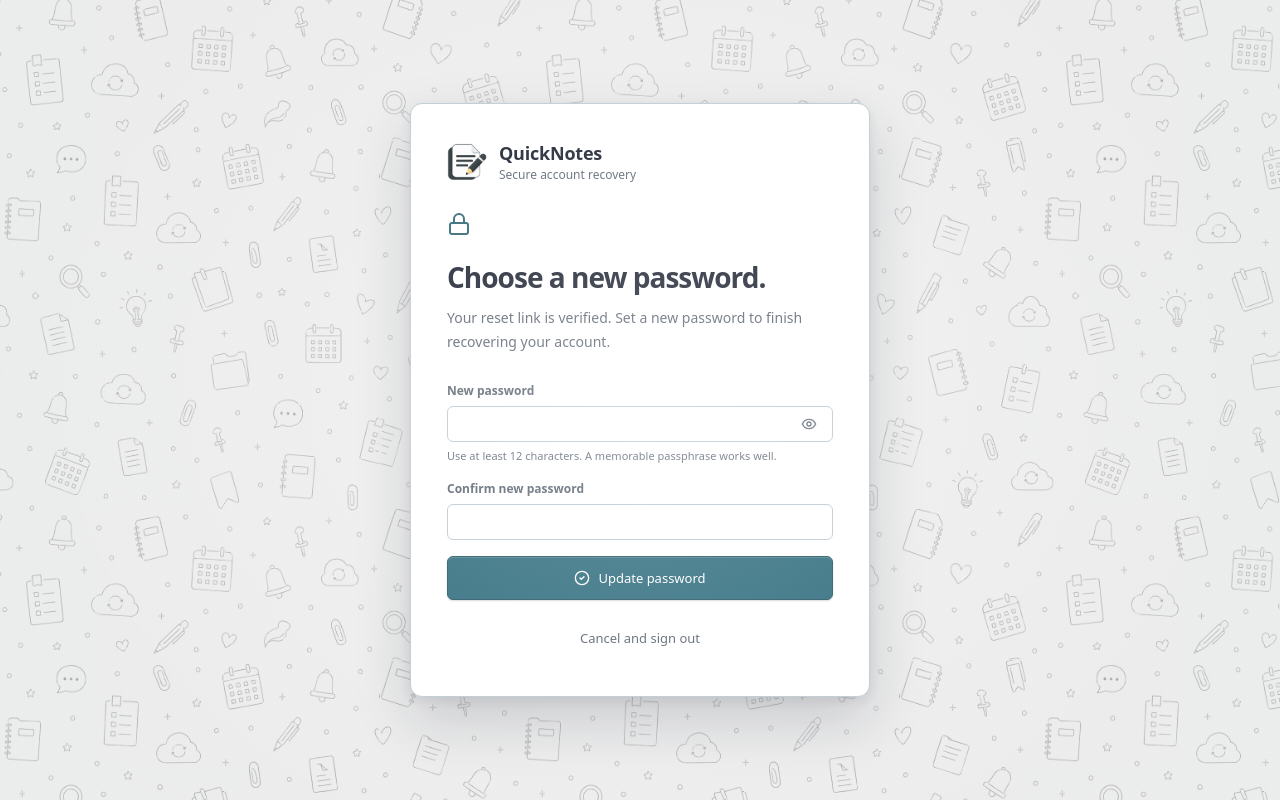
Test case: password recovery › associates a mismatch with the confirmation field and moves focus there
Step 1. Type "a sufficiently long passphrase" into the password field labelled "New password" → point(640, 424), box [447,406,833,442]
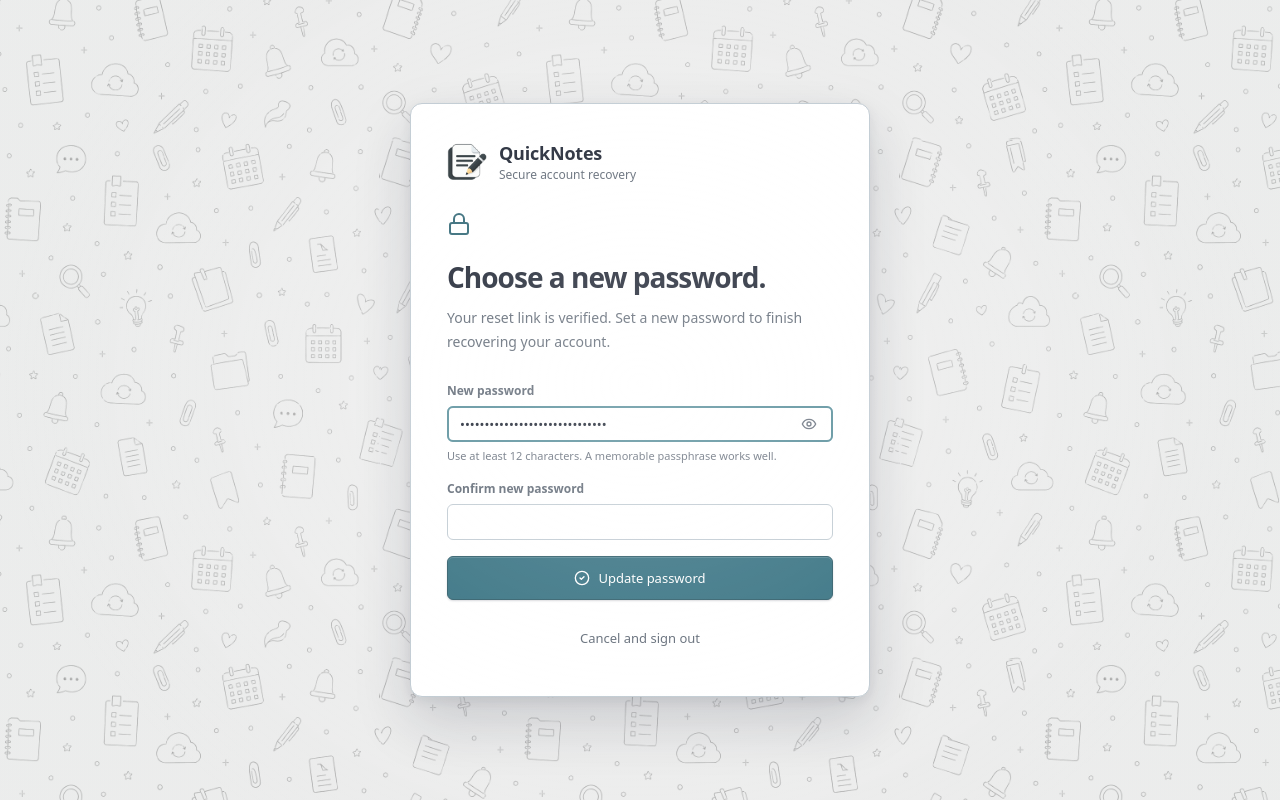
Step 2. Type "a different long passphrase" into the password field labelled "Confirm new password" → point(640, 522), box [447,504,833,540]
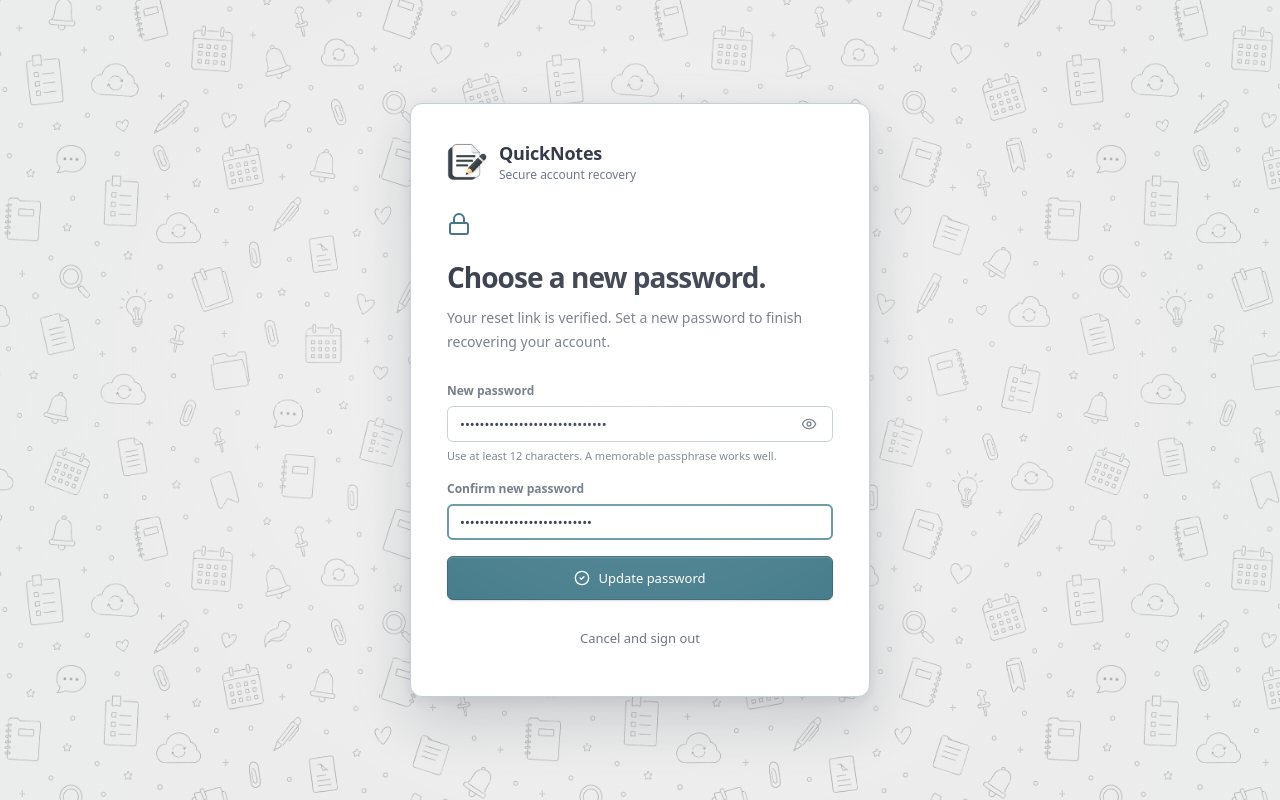
Step 3. Click the button "Update password" → point(640, 578), box [447,556,833,600]
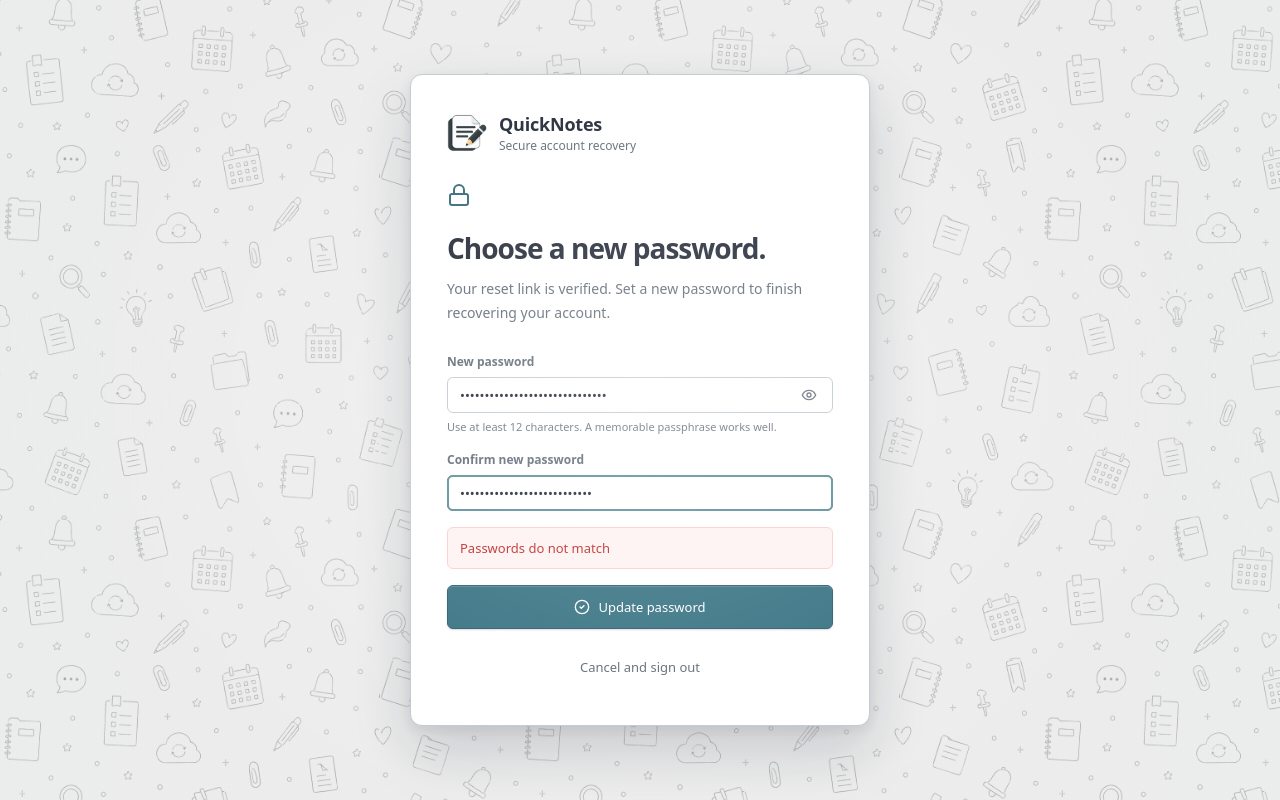
Check: the message reads "Passwords do not match", box [460,539,610,557]
